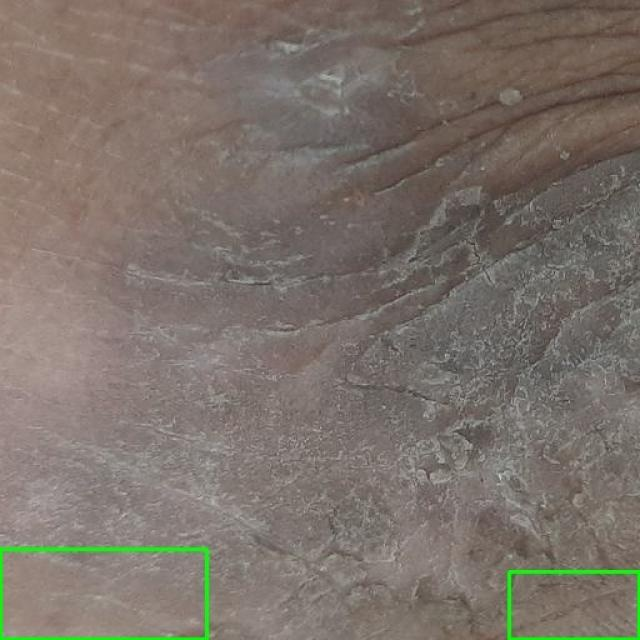Eczema: (0, 549, 206, 639), (509, 571, 639, 639)
